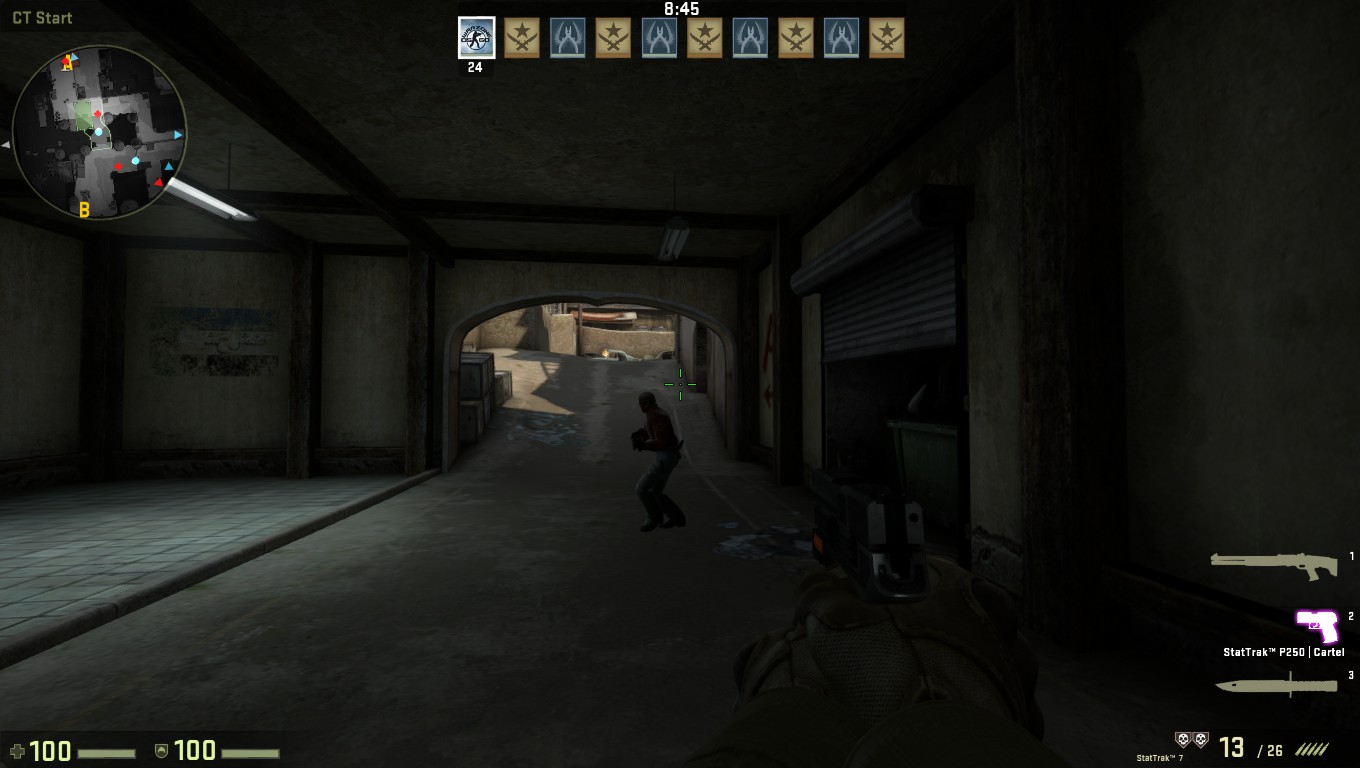t: (627, 390, 683, 531)
th: (635, 392, 659, 417)
